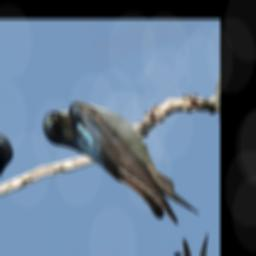Swallow: (37, 77, 208, 255)
